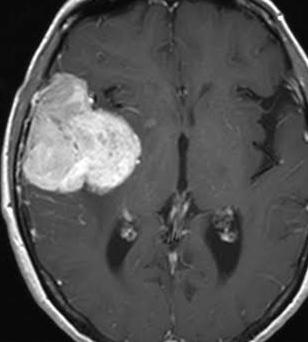Tumour-Meningioma: (27, 71, 155, 209)
